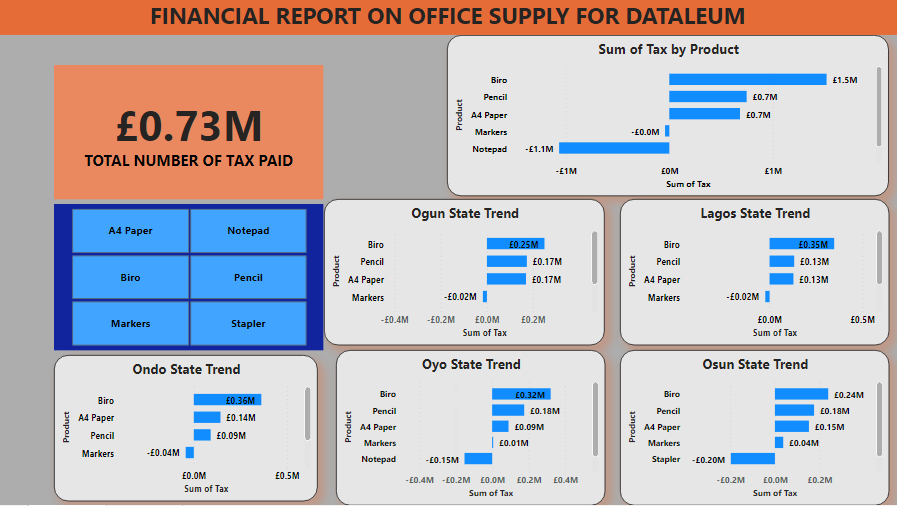

The page's visual inventory and layout, read from the dashboard file:
{"tool":"powerbi","page":{"name":"Page 3","canvas":[1280,720],"ordinal":2},"visuals":[{"type":"clusteredBarChart","fields":{"Y":["Sum(financials3.Tax)"],"Category":["financials3.Product"]},"box":[639.4,55.2,625.2,227.7],"z":0},{"type":"clusteredBarChart","title":"Lagos State Trend","fields":{"Y":["Sum(financials3.Tax)"],"Category":["financials3.Product"]},"box":[883.6,287.2,381.3,206.6],"z":1000},{"type":"clusteredBarChart","title":"Ogun State Trend","fields":{"Y":["Sum(financials3.Tax)"],"Category":["financials3.Product"]},"box":[465.4,287.2,397.5,206.5],"z":2000},{"type":"clusteredBarChart","title":"Osun State Trend","fields":{"Y":["Sum(financials3.Tax)"],"Category":["financials3.Product"]},"box":[883.6,500.6,381.3,220.1],"z":3000},{"type":"clusteredBarChart","title":"Ondo State Trend","fields":{"Y":["Sum(financials3.Tax)"],"Category":["financials3.Product"]},"box":[84,507.3,372.9,206.6],"z":4000},{"type":"clusteredBarChart","title":"Oyo State Trend","fields":{"Y":["Sum(financials3.Tax)"],"Category":["financials3.Product"]},"box":[482.1,500.6,381.3,220.1],"z":5000},{"type":"slicer","fields":{"Values":["financials3.Product"]},"box":[84,294,381.3,206.6],"z":6000},{"type":"actionButton","box":[0,0,100,40],"z":7000},{"type":"textbox","box":[0,0,1280,55.4],"z":8000},{"type":"card","title":"Total Number of Tax Paid","fields":{"Values":["Sum(financials3.Tax)"]},"box":[84,97.4,381.3,189.8],"z":9000}]}

Visuals, with their boxes in screenshot pixels (x1, y1, x2, y2), scaled from the page's 1280x720 canvas onto the 897x506 screenshot:
clusteredBarChart - Sum(financials3.Tax) x financials3.Product: {"x1": 448, "y1": 39, "x2": 886, "y2": 199}
"Lagos State Trend" clusteredBarChart: {"x1": 619, "y1": 202, "x2": 886, "y2": 347}
"Ogun State Trend" clusteredBarChart: {"x1": 326, "y1": 202, "x2": 605, "y2": 347}
"Osun State Trend" clusteredBarChart: {"x1": 619, "y1": 352, "x2": 886, "y2": 505}
"Ondo State Trend" clusteredBarChart: {"x1": 59, "y1": 357, "x2": 320, "y2": 502}
"Oyo State Trend" clusteredBarChart: {"x1": 338, "y1": 352, "x2": 605, "y2": 505}
slicer - financials3.Product: {"x1": 59, "y1": 207, "x2": 326, "y2": 352}
actionButton: {"x1": 0, "y1": 0, "x2": 70, "y2": 28}
textbox: {"x1": 0, "y1": 0, "x2": 896, "y2": 39}
"Total Number of Tax Paid" card: {"x1": 59, "y1": 68, "x2": 326, "y2": 202}
